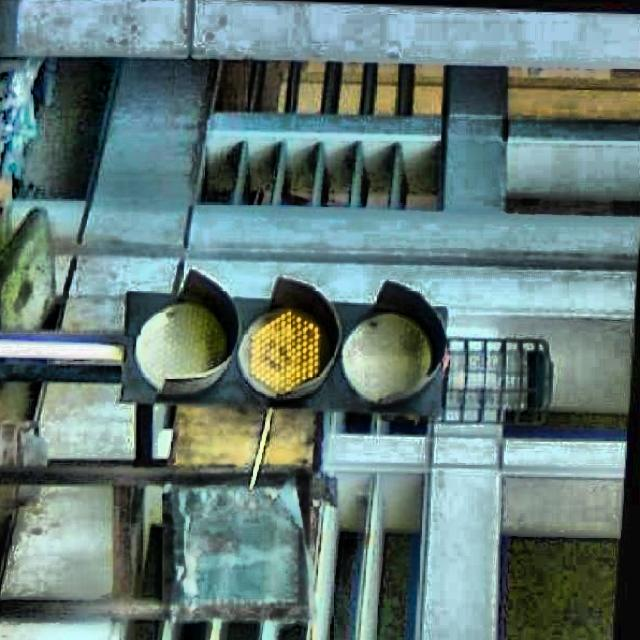yellow: (124, 283, 447, 404)
